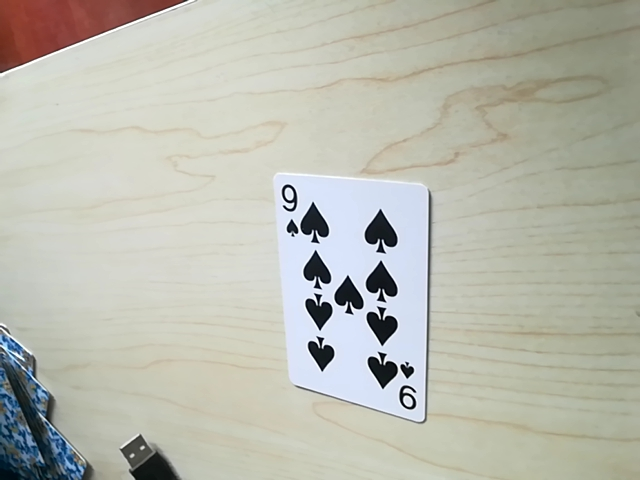ht 9: (274, 182, 314, 236), (388, 365, 423, 419)
